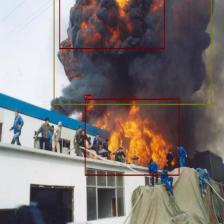fire: (85, 99, 179, 175), (59, 0, 164, 49)
smoke: (53, 0, 212, 105)
